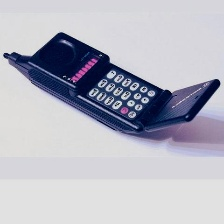phone: (0, 27, 223, 137)
